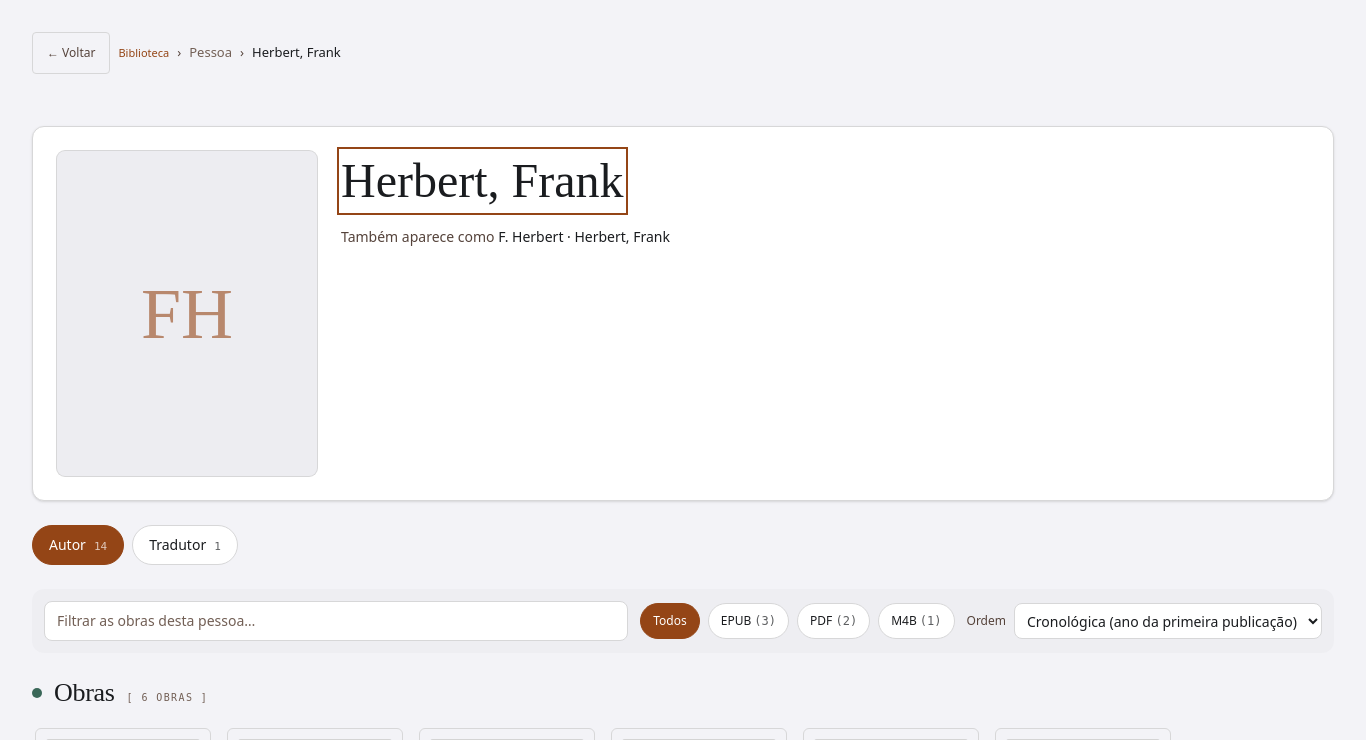
Test: PersonPage: the page of a person (#186) › the filter, the formats and the order › puts the works in chronological order, those nobody dated last
Select "Cronológica (ano da primeira publicação)" in the dropdown labelled "Ordem" at (1168, 621), box [1014,603,1322,639]
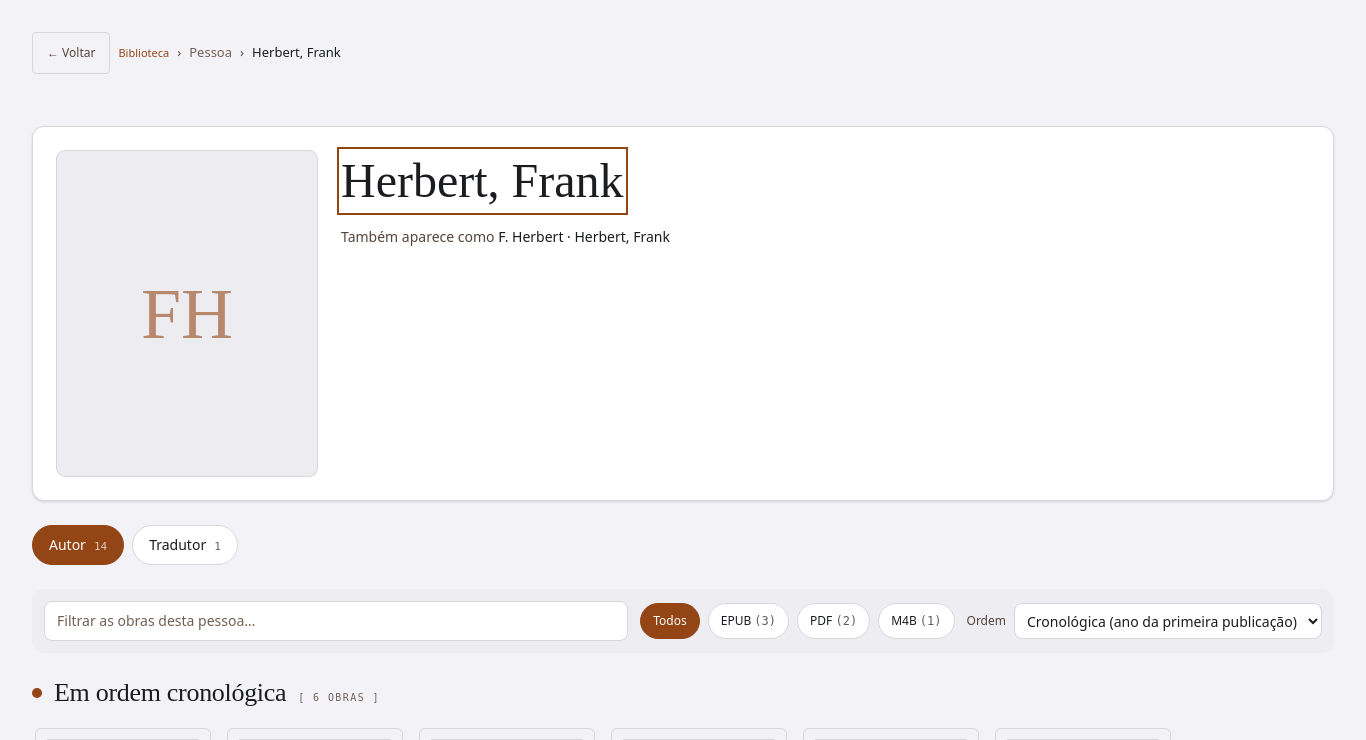
Now the heading "Em ordem cronológica" is shown, box [54,677,286,708]
